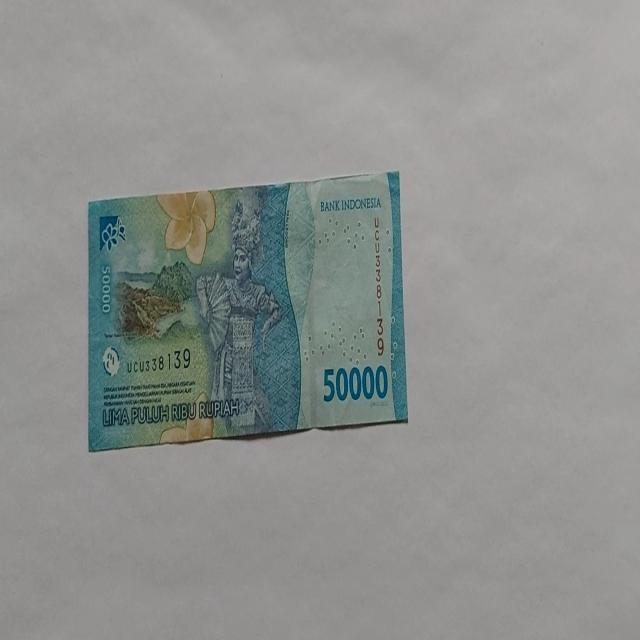lima puluh ribu rupiah: (86, 168, 408, 452)
